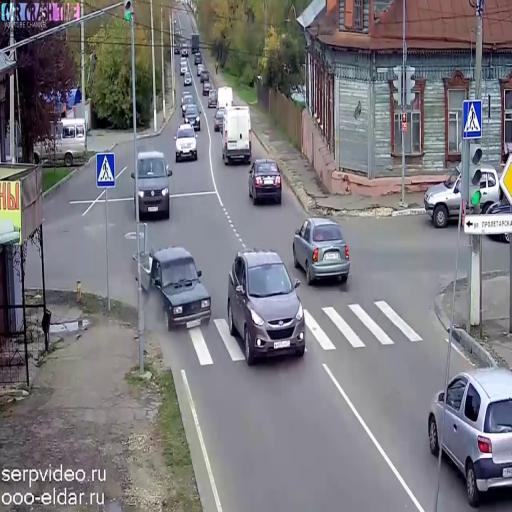小汽车: (427, 365, 512, 500), (227, 249, 307, 360), (133, 247, 213, 332), (422, 164, 501, 232), (294, 216, 350, 284), (30, 117, 88, 164), (135, 153, 171, 218), (222, 110, 254, 168), (248, 160, 282, 205), (174, 123, 197, 161), (184, 104, 202, 131), (212, 104, 226, 130), (206, 88, 220, 110), (189, 31, 201, 54), (181, 71, 193, 91), (178, 60, 190, 79), (198, 70, 213, 84)
